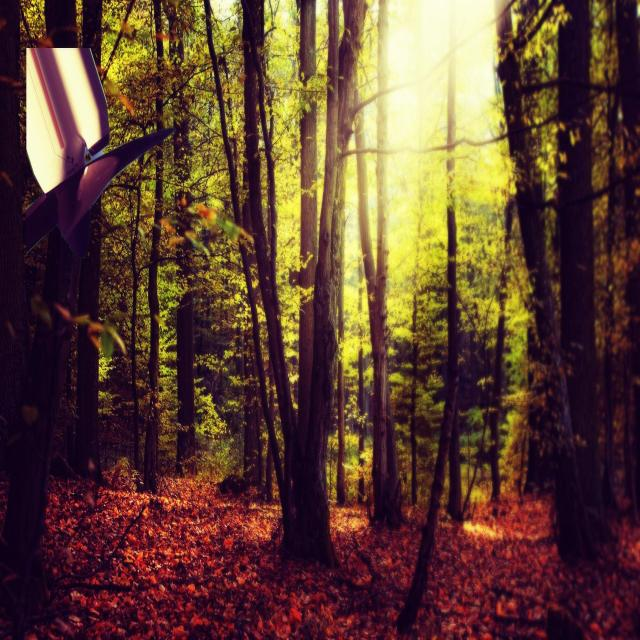airplane: (22, 44, 174, 260)
